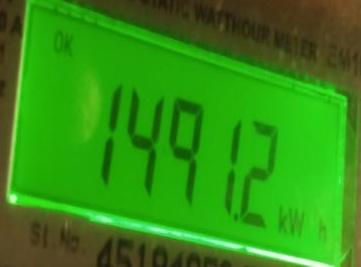.: (269, 203, 332, 246)
0: (231, 210, 240, 226)
2: (93, 81, 124, 192), (219, 111, 245, 219)
3: (237, 118, 279, 229)
5: (121, 85, 166, 201)
object: (163, 96, 205, 205)
